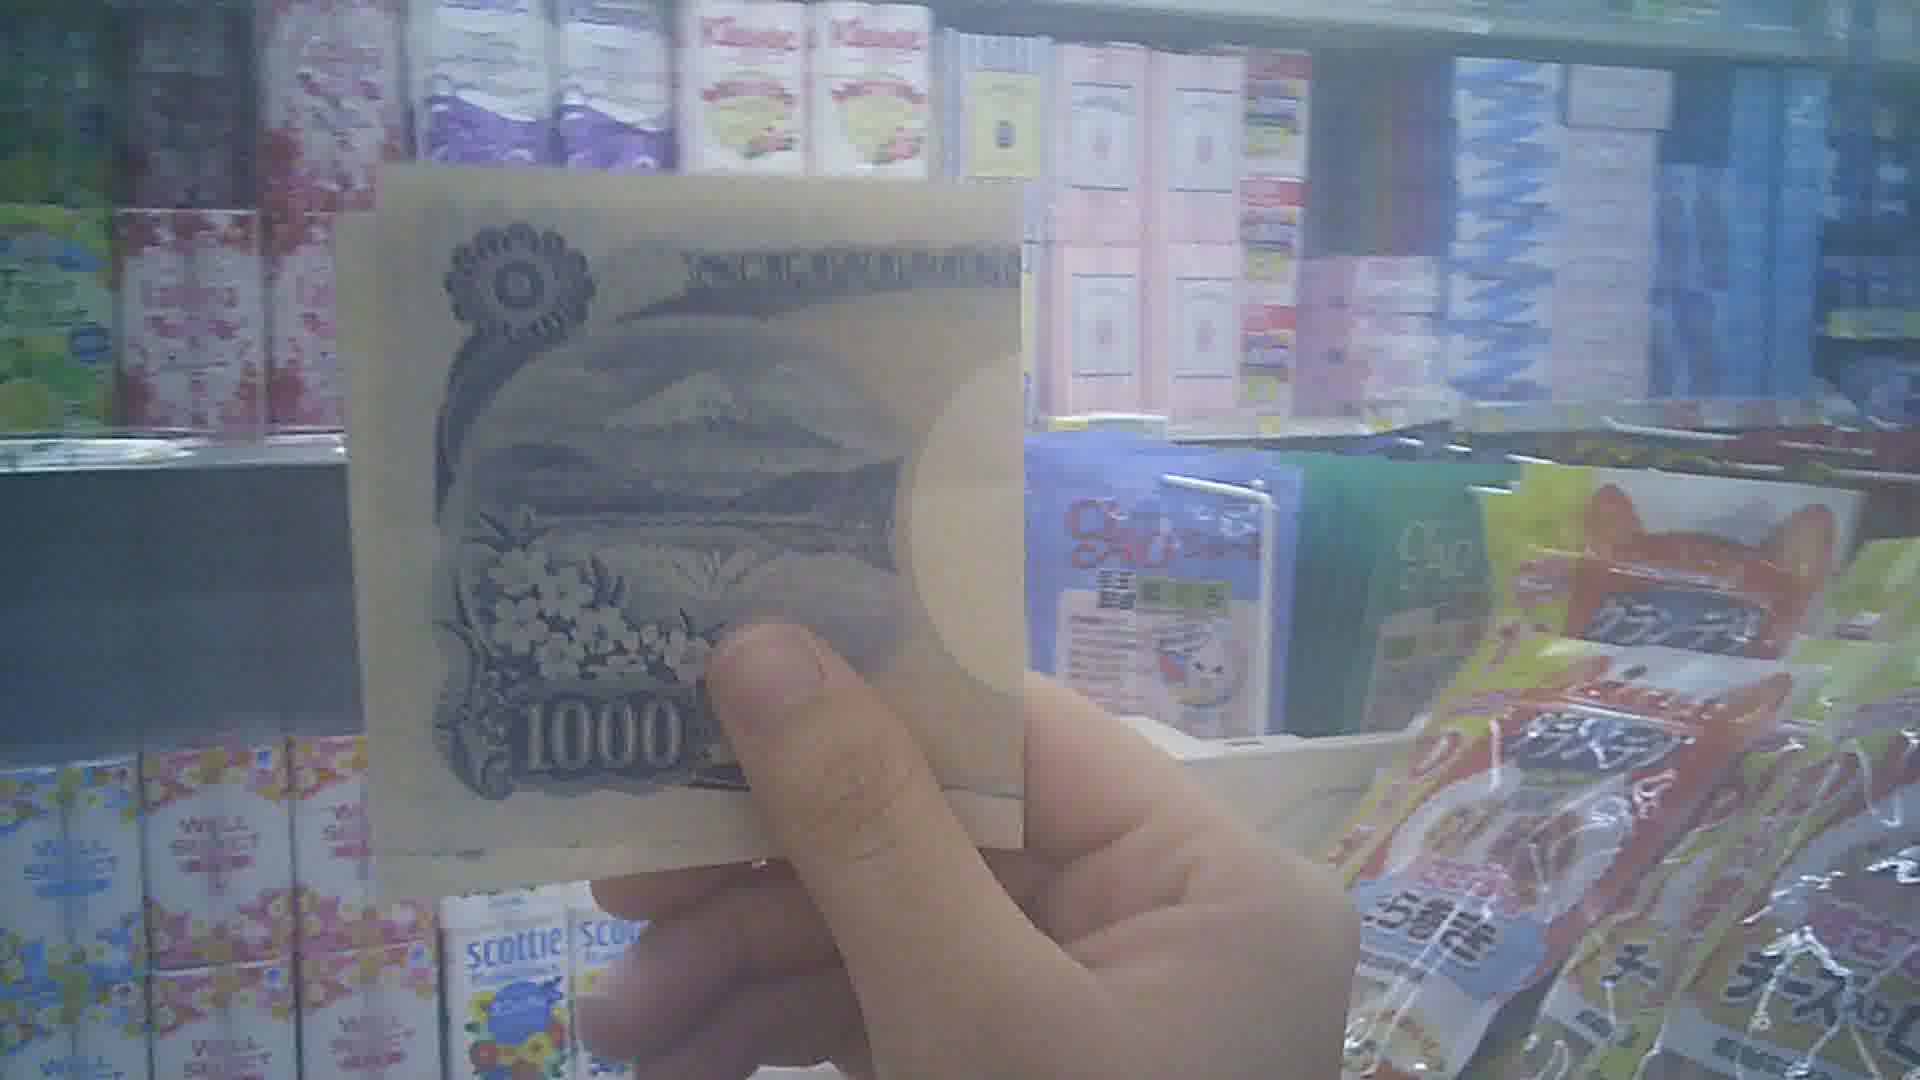1,000 Yen: (316, 164, 1030, 848)
